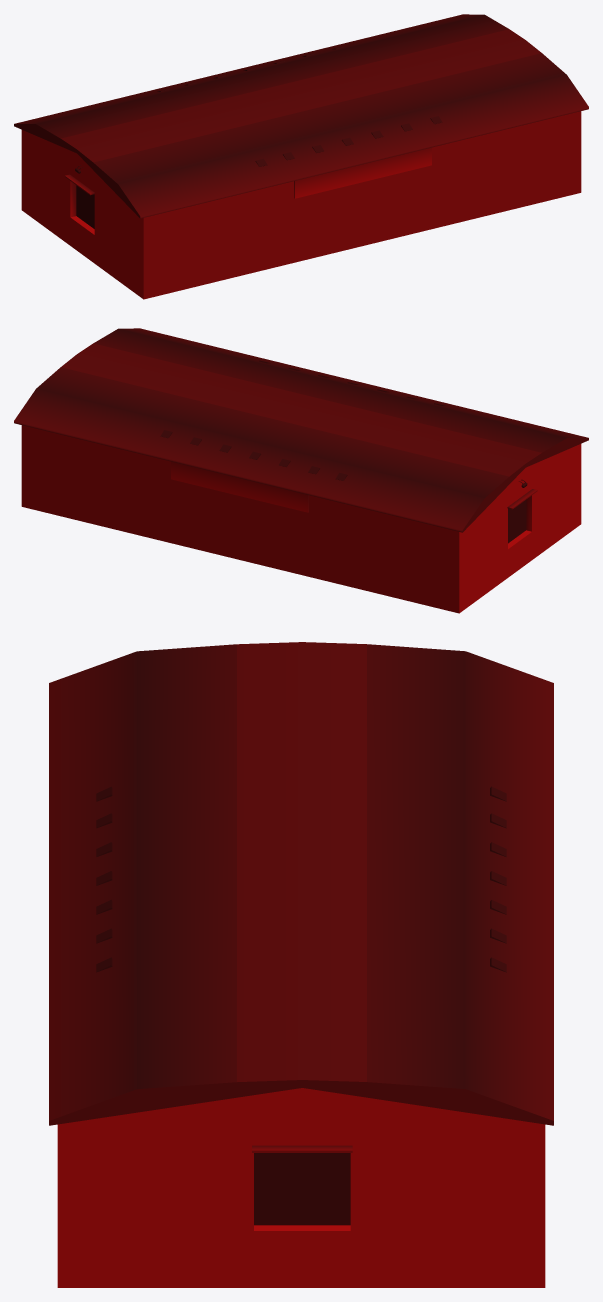
The model's file is buildings-industrial-industrialbuilding_v2.fbx.
3 views of the same model, one above another, from view 1: azimuth 30°, elevation 25°; view 2: azimuth 150°, elevation 25°; view 3: azimuth 270°, elevation 25° (orthographic). The views are drawn at different scales.
Visible parts, largest first — view 1: IndustrialBuilding_v2; view 2: IndustrialBuilding_v2; view 3: IndustrialBuilding_v2.
Part boxes in pixels (x1=…): IndustrialBuilding_v2: x1=14, y1=14, x2=588, y2=299; IndustrialBuilding_v2: x1=14, y1=328, x2=588, y2=613; IndustrialBuilding_v2: x1=49, y1=642, x2=553, y2=1287.
Size of the model in its own units: 49.61 by 11.27 by 24.17.
